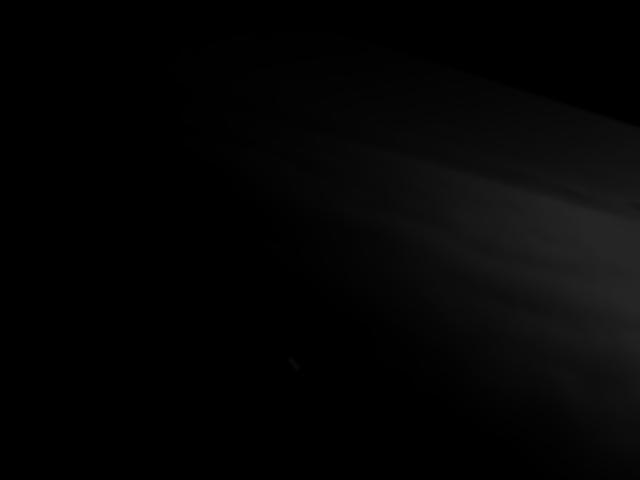hedef: (227, 317, 360, 404)
